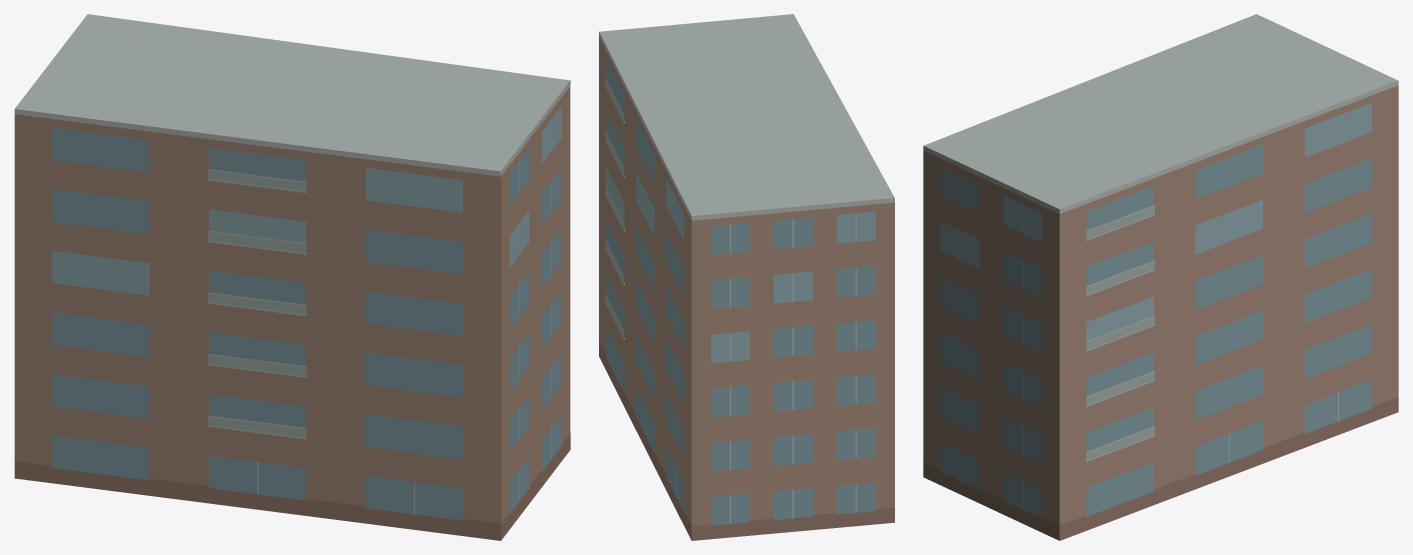
Rendered from survey-upis-32717223.glb.
The picture shows the model from 3 angles, left to right: view 1: azimuth 30°, elevation 25°; view 2: azimuth 150°, elevation 25°; view 3: azimuth 270°, elevation 25°; orthographic projection. The views are drawn at different scales.
Visible parts, largest first — view 1: survey-upis-32717223.tmp; view 2: survey-upis-32717223.tmp; view 3: survey-upis-32717223.tmp.
Boxes of the visible parts, x1,y1,x2,y2 form: survey-upis-32717223.tmp: (14,14,570,540); survey-upis-32717223.tmp: (599,14,894,540); survey-upis-32717223.tmp: (923,14,1398,540).
Size of the model in its own units: 21.74 by 17.2 by 22.34.
